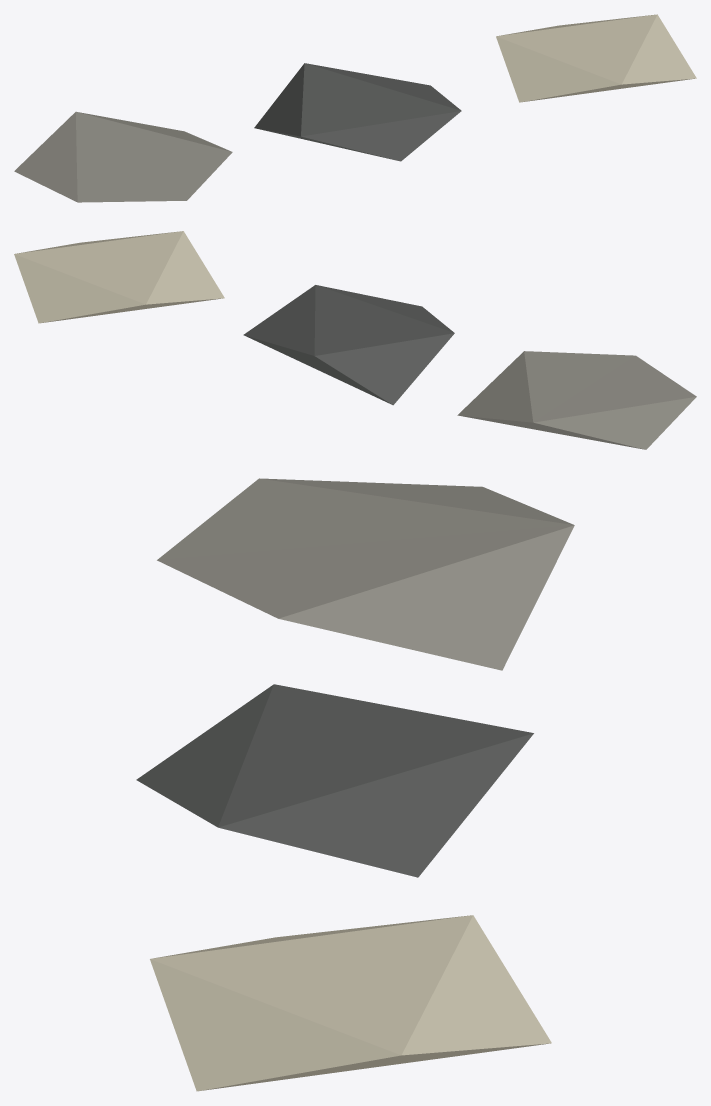
File: rock_6_lod1.glb
3 views of the same model, one above another, from view 1: azimuth 30°, elevation 25°; view 2: azimuth 150°, elevation 25°; view 3: azimuth 270°, elevation 25° (orthographic). The views are drawn at different scales.
Parts seen in each view (by area): view 1: rock_6_lod1; view 2: rock_6_lod1; view 3: rock_6_lod1.
Boxes of the visible parts, <box> form: rock_6_lod1: <box>14,14,696,202</box>; rock_6_lod1: <box>14,231,696,449</box>; rock_6_lod1: <box>136,478,574,1091</box>.
Bounding box in the file's own units: 2.47 × 0.1542 × 0.7528.
